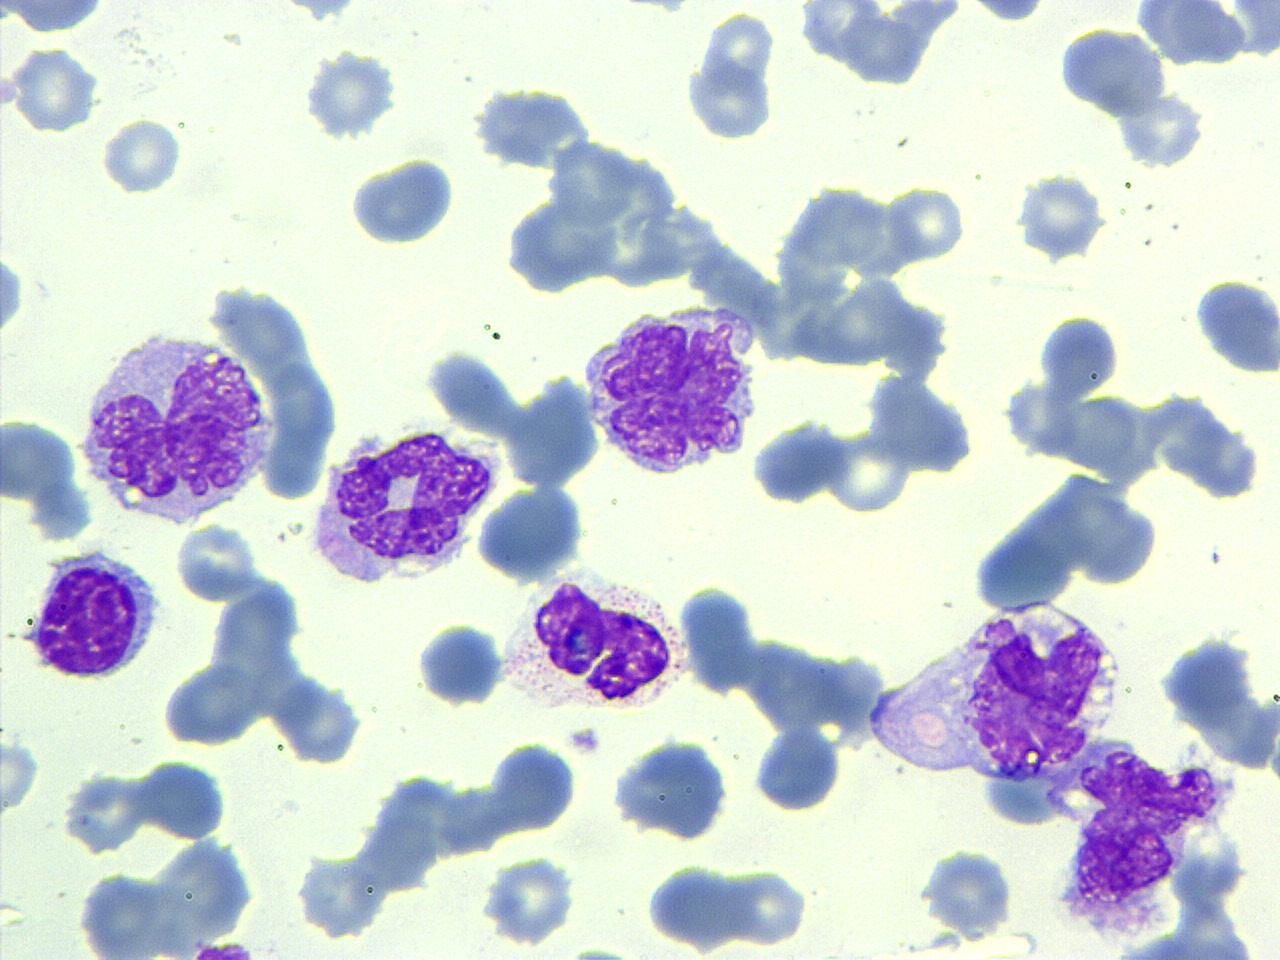Platelets: (482, 854, 577, 950), (302, 47, 396, 142), (1014, 169, 1109, 263), (98, 116, 187, 196), (0, 734, 44, 821), (0, 249, 29, 342), (286, 0, 358, 21), (565, 722, 605, 758), (193, 939, 258, 960), (566, 940, 632, 960), (626, 0, 692, 17), (924, 928, 964, 951)
RBC: (476, 853, 581, 951), (173, 518, 260, 606), (882, 179, 968, 266), (722, 864, 809, 949), (0, 732, 44, 824)
WBC: (833, 260, 1280, 960), (862, 588, 1126, 826), (1051, 728, 1273, 960), (74, 318, 280, 529), (579, 296, 765, 484), (306, 424, 500, 594), (1043, 10, 1227, 175), (498, 564, 690, 721), (71, 832, 266, 960), (1156, 624, 1280, 779), (26, 546, 164, 684), (788, 1, 970, 93), (608, 733, 734, 844), (682, 7, 783, 145), (472, 478, 593, 586), (0, 410, 93, 543), (345, 153, 463, 249), (914, 843, 1020, 943), (0, 41, 109, 138), (1130, 2, 1280, 72), (302, 46, 401, 143), (1190, 274, 1280, 380), (1014, 165, 1112, 260), (641, 860, 744, 950), (414, 616, 508, 710), (750, 722, 843, 816), (0, 1, 117, 36)
